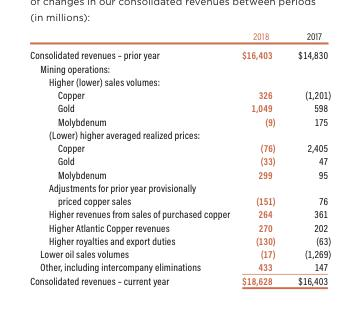table: (29, 28, 330, 286)
table column: (29, 28, 235, 286), (235, 28, 285, 286), (285, 28, 330, 286)
table column header: (29, 28, 330, 44)
table projected row header: (29, 61, 330, 74), (29, 74, 330, 87), (29, 127, 330, 140)
table row: (29, 180, 330, 206), (29, 44, 330, 61), (29, 28, 330, 44), (29, 100, 330, 114), (29, 153, 330, 167), (29, 206, 330, 220), (29, 259, 330, 273), (29, 61, 330, 74), (29, 74, 330, 87), (29, 87, 330, 100), (29, 114, 330, 127), (29, 127, 330, 140), (29, 140, 330, 153), (29, 167, 330, 180), (29, 220, 330, 233), (29, 233, 330, 246), (29, 246, 330, 259), (29, 273, 330, 286)
